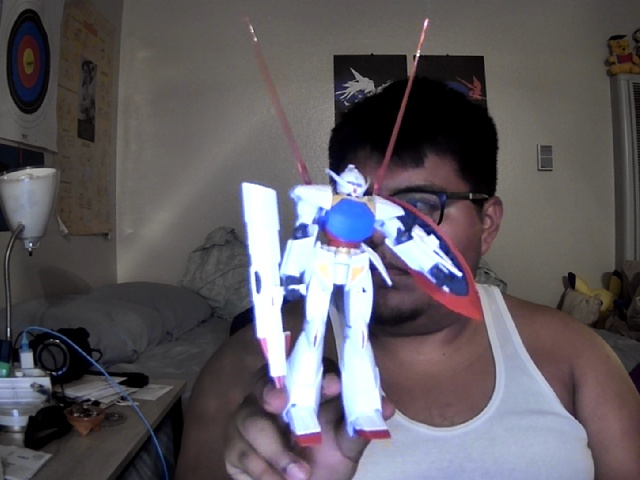Turn-A: (240, 164, 485, 445)
